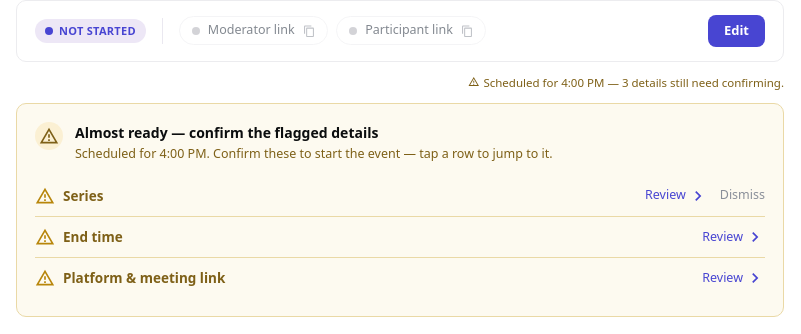
Test: EventStatus (pending state) › readiness banner › hides the Series row after its Dismiss button is clicked
Click the button "Dismiss": (742, 196) [720,186,765,205]
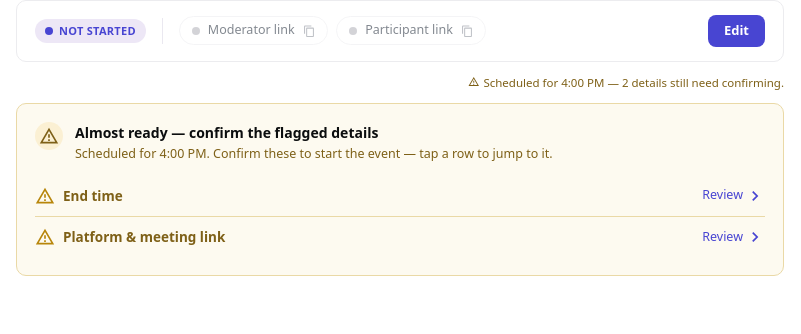
Result: the text "Series" is gone
